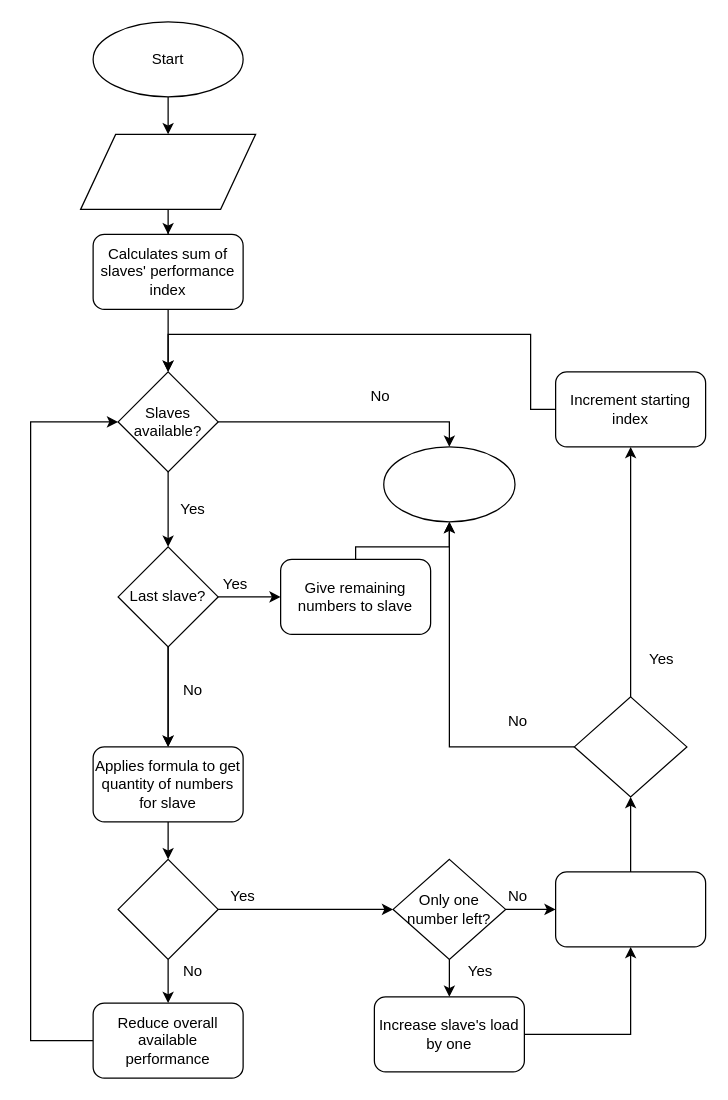
Image size: 728x1100. Some labels were removed from this diagram. Each missing label, with the centre of its shape:
"Any numbers left?" goes at (630,746).
"Create sublist with computed size and tell slave to compute" goes at (630,909).
"End" goes at (448,484).
"Quantity > 2" goes at (167,908).
"Receives available slaves and request" goes at (167,171).
